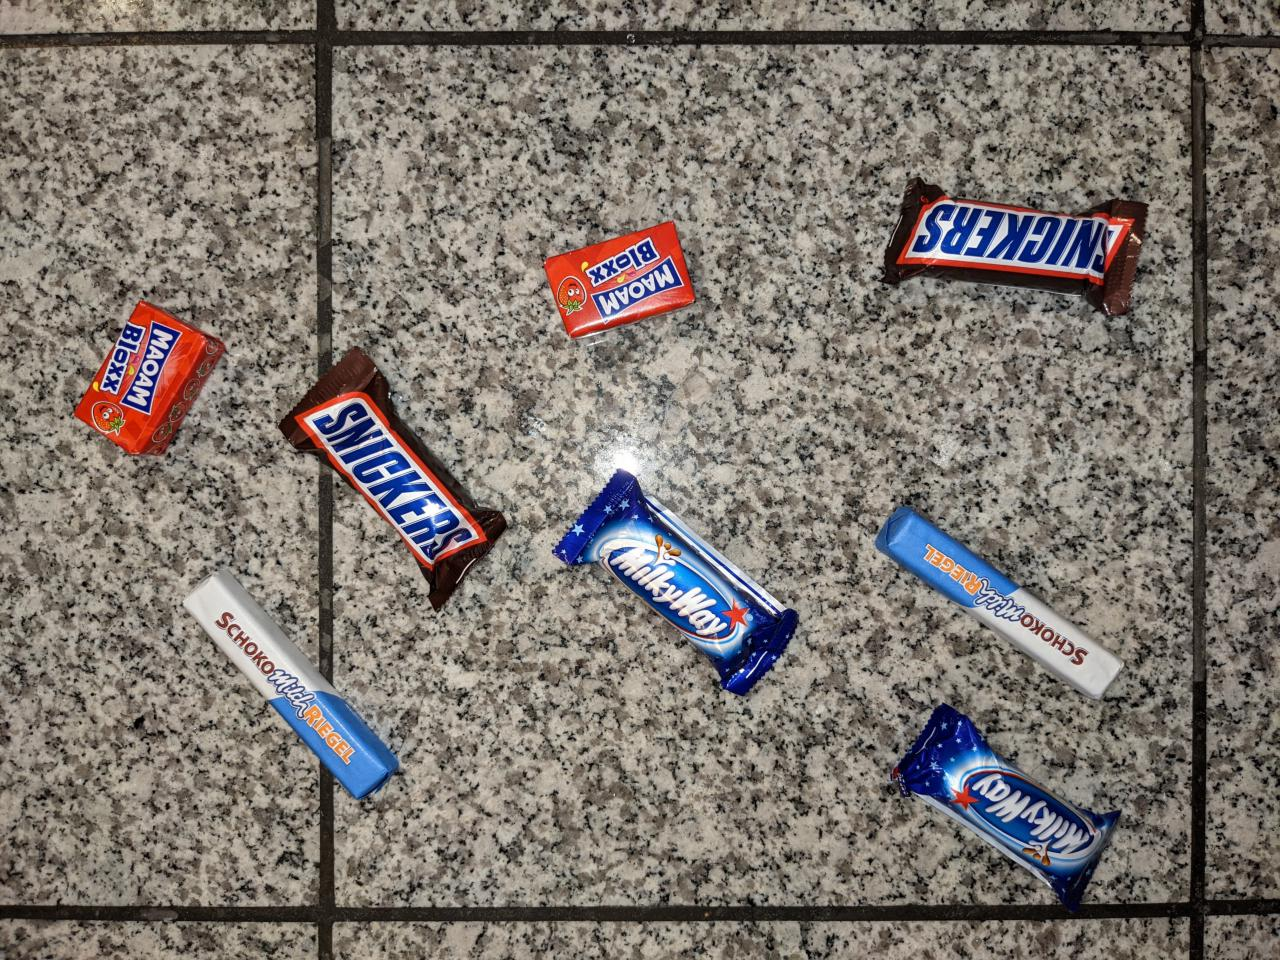MAOAM: (69, 295, 231, 462), (538, 216, 700, 345)
MilkyWay: (548, 466, 804, 699), (883, 699, 1128, 921)
Schokoriegel: (178, 563, 406, 807), (869, 500, 1131, 706)
Snickers: (275, 341, 513, 615), (871, 169, 1154, 325)
